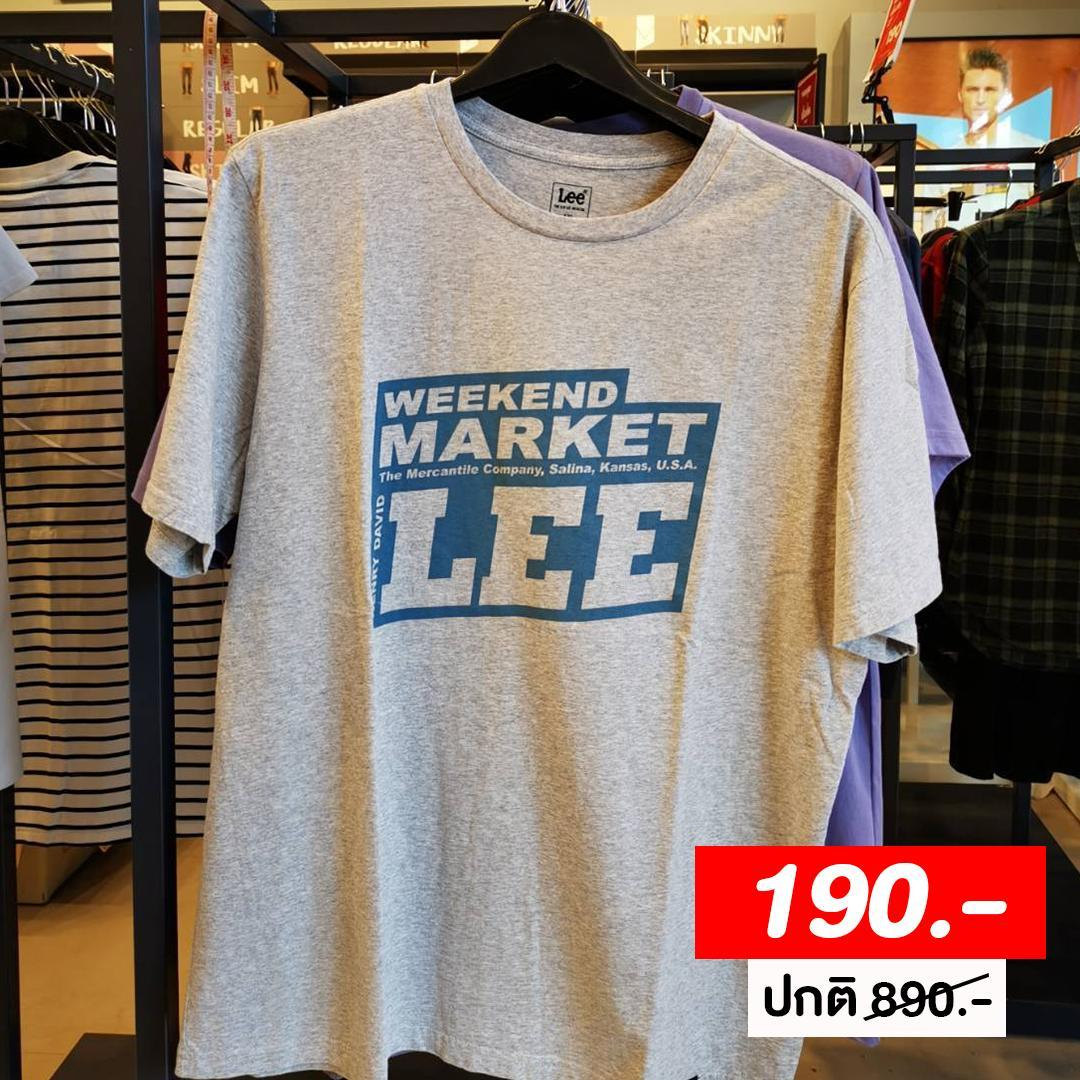Tshirt: (129, 86, 945, 1080)
